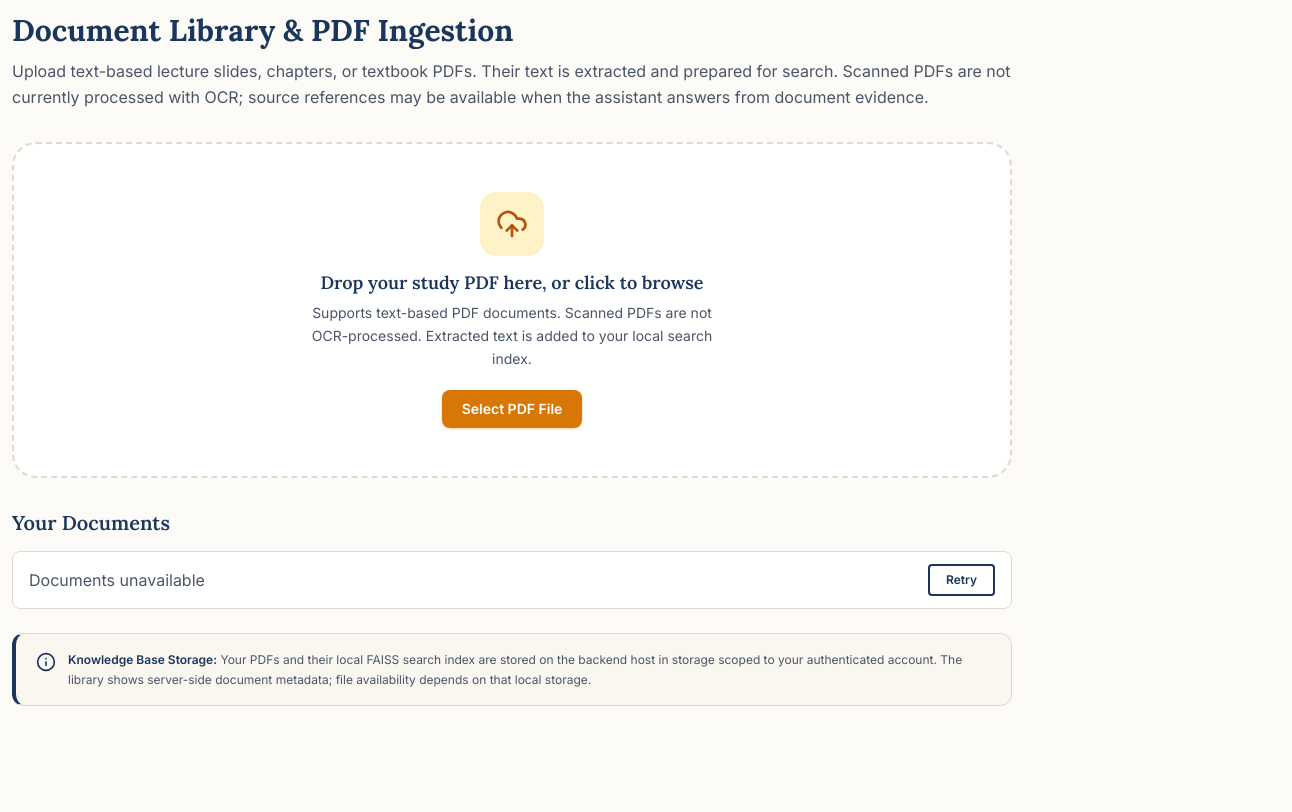
Scenario: DocumentLibraryPage › shows list errors and can retry
expect the message shows "Documents unavailable": met, box [29, 570, 205, 590]
Click the button "Retry" at (962, 580), box [928, 564, 995, 596]
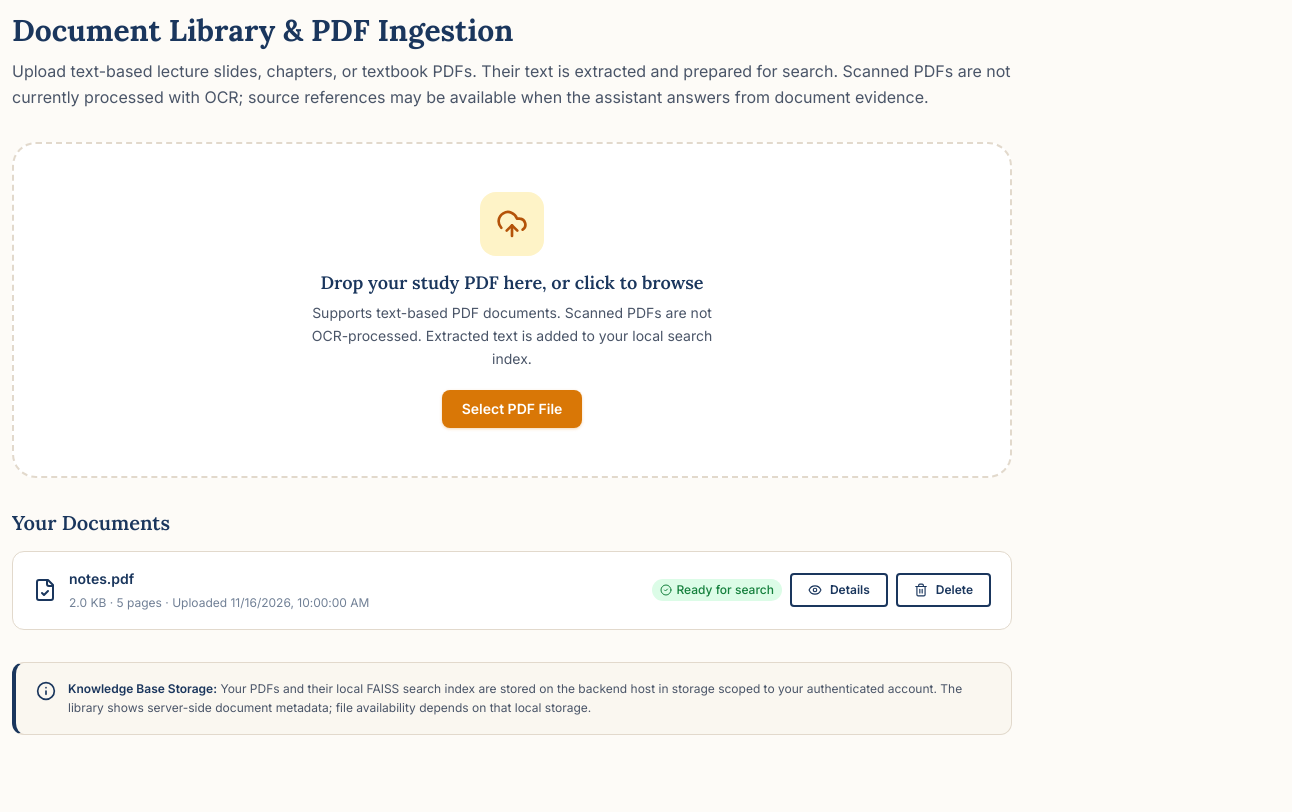
expect the text "notes.pdf" is shown: met, box [69, 570, 134, 587]
